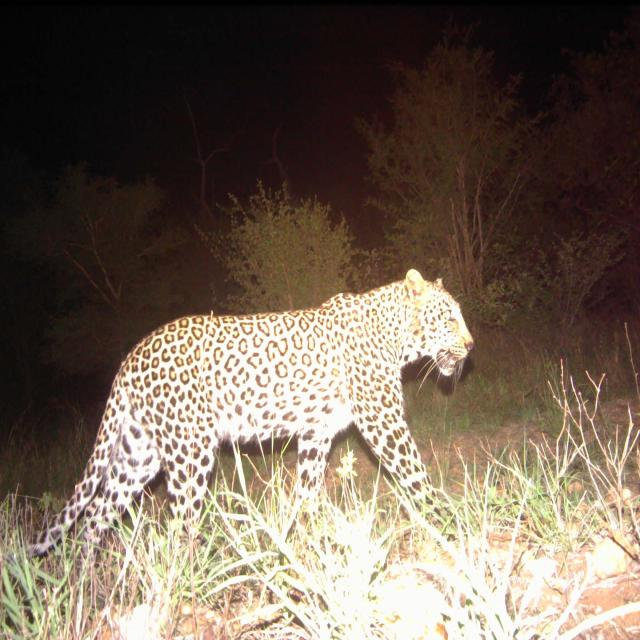Leopard: (22, 259, 482, 596)
